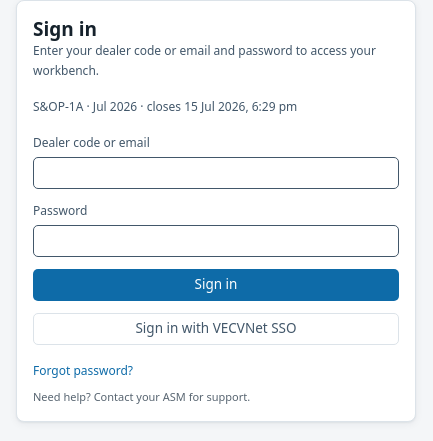
it: LoginForm › disables and shows loading on the submit button while the mutation is in flight
The width and height of the screenshot is (433, 441).
Type "DLR-1002" into the field labelled "Dealer code or email" at [216, 173], box 33,157 -> 399,189
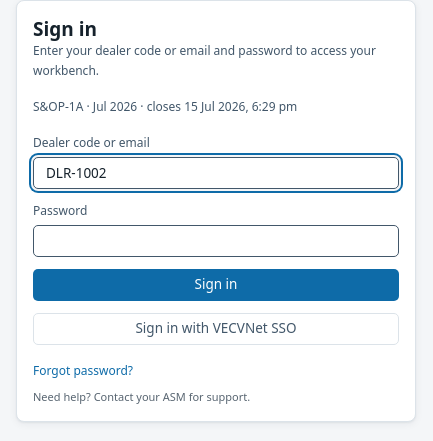
Type "demo-pass" into the password field labelled "Password" at [216, 241], box 33,225 -> 399,257
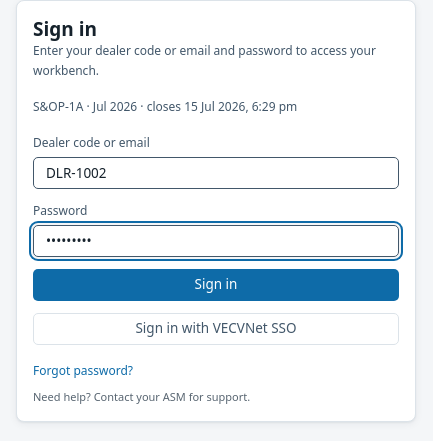
Click the button "Sign in" at [216, 285], box 33,269 -> 399,301
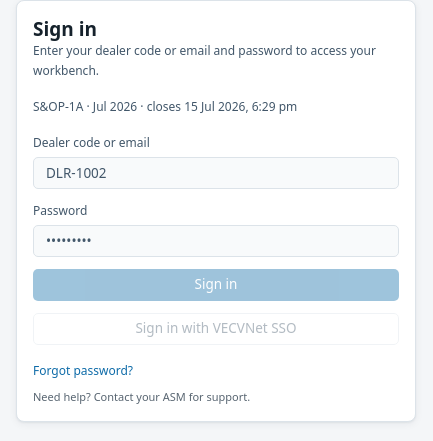
Now the button "Sign in" is disabled, box 33,269 -> 399,301
